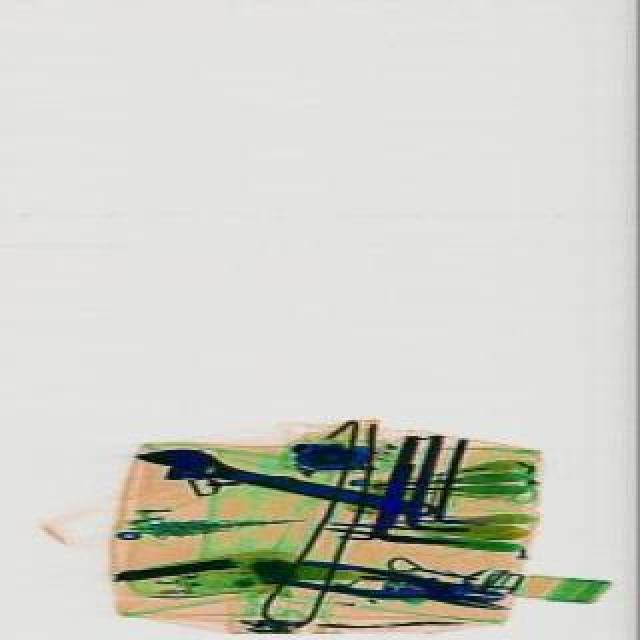scissors: (140, 436, 448, 532)
wrench: (286, 554, 508, 614), (338, 560, 526, 616)
